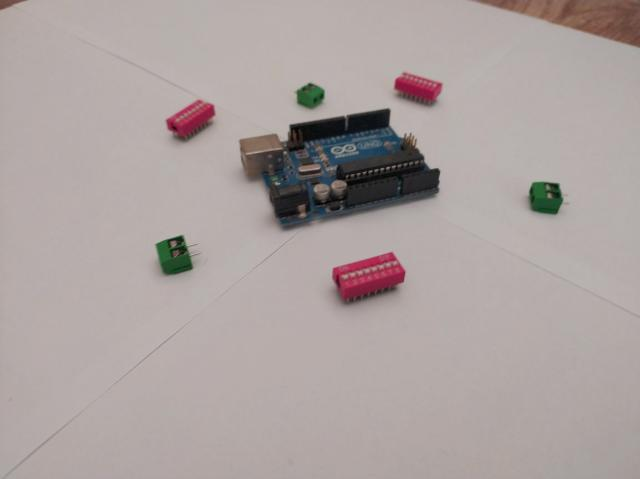arduino: (238, 107, 440, 226)
dip_switch: (332, 251, 406, 305), (166, 99, 216, 141), (394, 72, 442, 106)
terminal_block: (155, 235, 201, 275), (528, 181, 570, 215), (294, 82, 324, 110)
